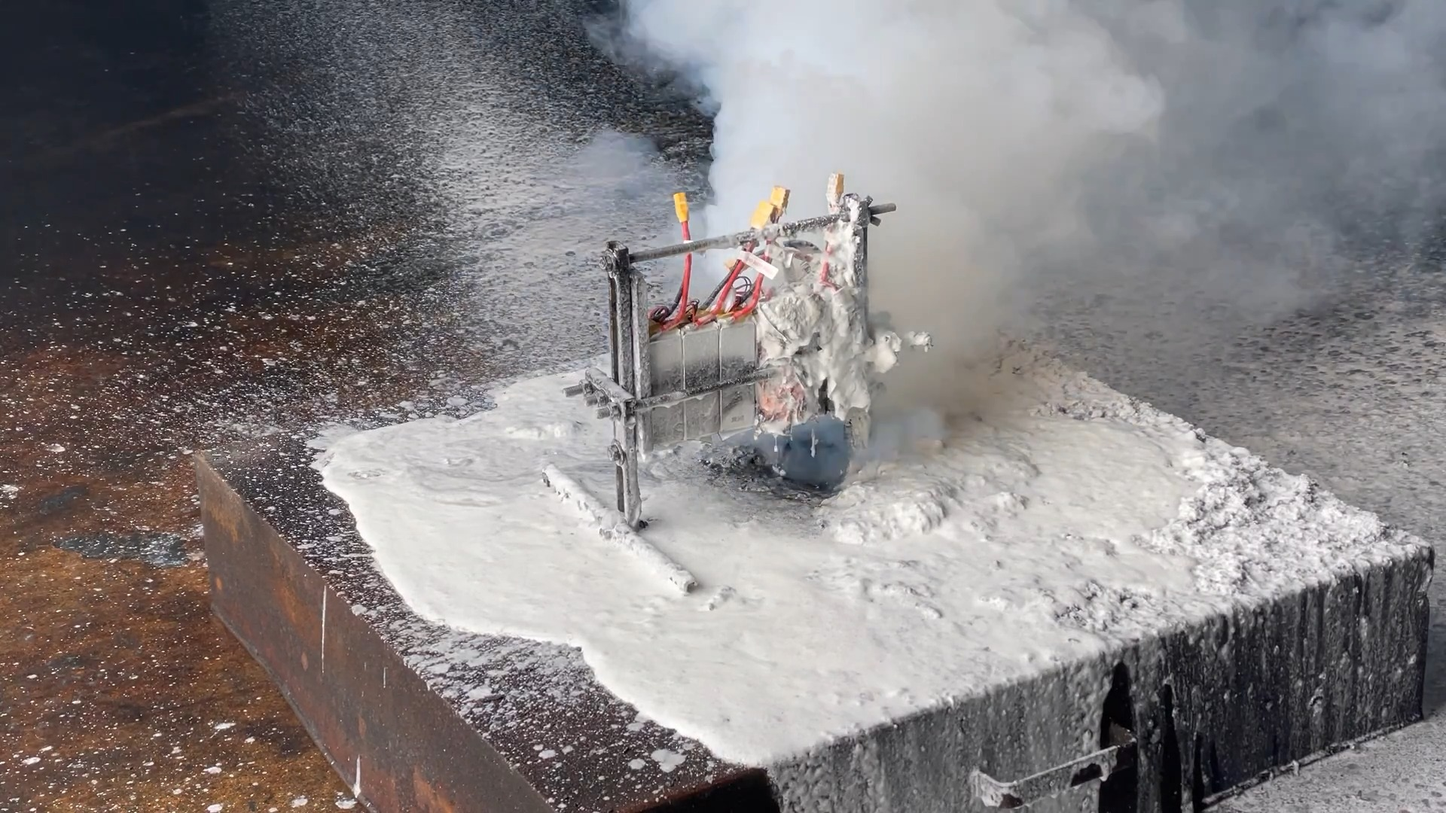smoke: (584, 0, 1438, 471)
